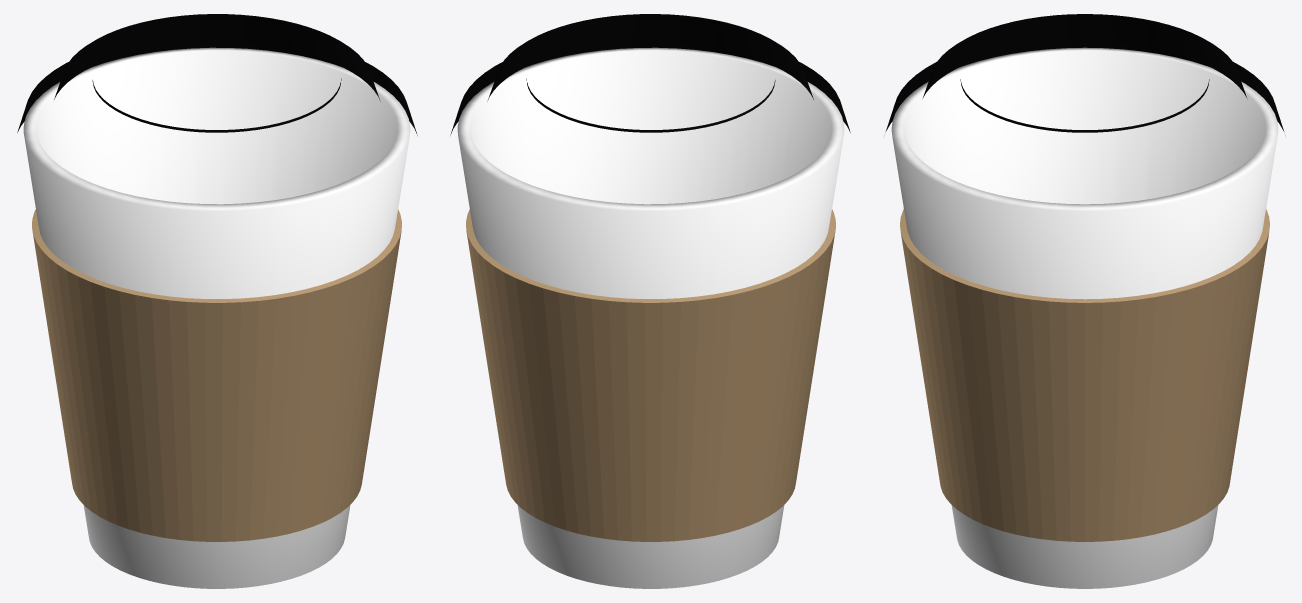
File: low-poly-coffee-cup.glb
3 views of the same model, side by side, from view 1: azimuth 30°, elevation 25°; view 2: azimuth 150°, elevation 25°; view 3: azimuth 270°, elevation 25° (orthographic).
Parts seen in each view (by area): view 1: Object_4, Object_2, Object_3; view 2: Object_4, Object_2, Object_3; view 3: Object_4, Object_2, Object_3.
Boxes of the visible parts, bbox=[...] form: Object_4: bbox=[23, 47, 410, 588]; Object_2: bbox=[32, 209, 401, 541]; Object_3: bbox=[17, 14, 417, 135]; Object_4: bbox=[457, 47, 844, 588]; Object_2: bbox=[466, 209, 835, 541]; Object_3: bbox=[450, 14, 850, 135]; Object_4: bbox=[891, 47, 1278, 588]; Object_2: bbox=[900, 209, 1269, 541]; Object_3: bbox=[885, 14, 1284, 132].
Size of the model in its own units: 2.6 by 3.23 by 2.6.
Materials: 3 (1 with a texture image).
